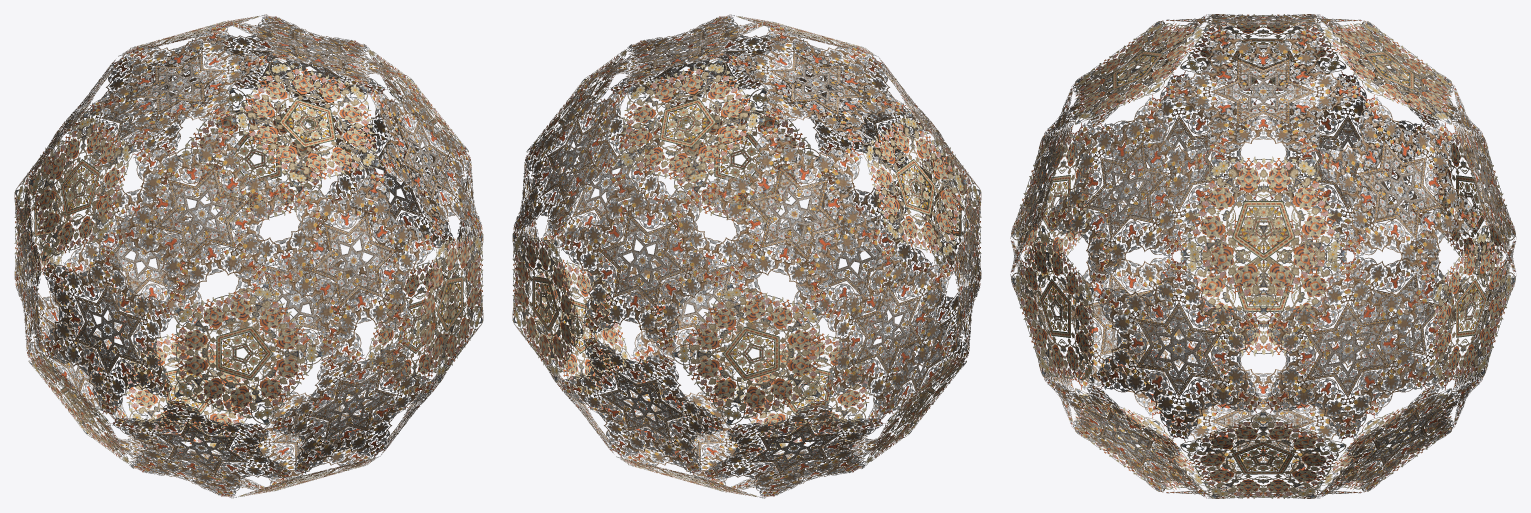
The model's file is TruncatedIcosahedron11.gltf.
3 renders of one model, left to right at view 1: azimuth 30°, elevation 25°; view 2: azimuth 150°, elevation 25°; view 3: azimuth 270°, elevation 25°, orthographic. The views are drawn at different scales.
Visible parts, largest first — view 1: TruncatedIcosahedron; view 2: TruncatedIcosahedron; view 3: TruncatedIcosahedron.
Part boxes in pixels (x1,y1,x2,y2): TruncatedIcosahedron: (14, 14, 483, 498); TruncatedIcosahedron: (512, 14, 981, 498); TruncatedIcosahedron: (1010, 14, 1516, 498).
Size of the model in its own units: 4.85 by 4.85 by 4.85.
Materials: 2 (2 with a texture image).
